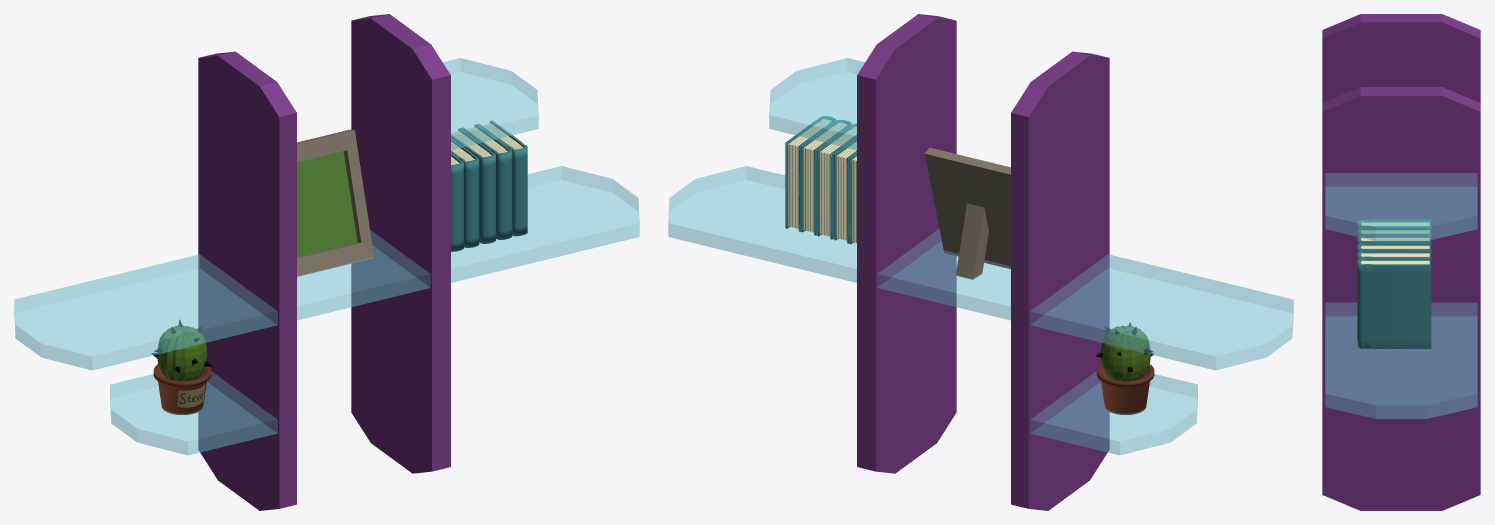
Rendered from shelves_tier16.fbx.
3 views of the same model, side by side, from view 1: azimuth 30°, elevation 25°; view 2: azimuth 150°, elevation 25°; view 3: azimuth 270°, elevation 25° (orthographic). The views are drawn at different scales.
Parts seen in each view (by area): view 1: Cube.008, Cube.009, Cube.014, Cube.002, Cube.001, Cylinder.003, Cube.007, Cube.006, Cube.010, Cube.005, Cylinder.002, Cube.004; view 2: Cube.008, Cube.009, Cube.014, Cube.002, Cube.001, Cylinder.003, Cube.007, Cube.006, Cube.010, Cylinder.002, Cube.005, Cube.004; view 3: Cube.008, Cube.009, Cube.001, Cube.010, Cube.003, Cube.005, Cube.006, Cube.007, Cube.004.
Part boxes in pixels (x1,y1,x2,y2): Cube.008: (198, 14, 450, 510); Cube.009: (14, 166, 639, 370); Cube.014: (297, 129, 374, 276); Cube.002: (110, 371, 277, 455); Cube.001: (443, 58, 538, 149); Cylinder.003: (151, 319, 212, 381); Cube.007: (461, 124, 512, 239); Cube.006: (451, 128, 495, 243); Cube.010: (477, 120, 527, 236); Cube.005: (451, 138, 479, 247); Cylinder.002: (153, 364, 211, 414); Cube.004: (451, 153, 463, 251); Cube.008: (857, 14, 1109, 510); Cube.009: (668, 166, 1293, 370); Cube.014: (925, 147, 1010, 279); Cube.002: (1030, 371, 1197, 455); Cube.001: (769, 58, 864, 149); Cylinder.003: (1095, 322, 1153, 381); Cube.007: (800, 120, 851, 235); Cube.006: (817, 123, 856, 239); Cube.010: (785, 116, 835, 231); Cylinder.002: (1096, 364, 1154, 414); Cube.005: (833, 138, 856, 243); Cube.004: (849, 153, 856, 244); Cube.008: (1322, 14, 1480, 510); Cube.009: (1325, 303, 1477, 418); Cube.001: (1325, 173, 1477, 240); Cube.010: (1357, 258, 1431, 348); Cube.003: (1357, 219, 1431, 229); Cube.005: (1357, 234, 1431, 244); Cube.006: (1357, 242, 1431, 252); Cube.007: (1357, 250, 1431, 260); Cube.004: (1357, 227, 1431, 236).
Bounding box in the file's own units: 212 × 144 × 49.72.
